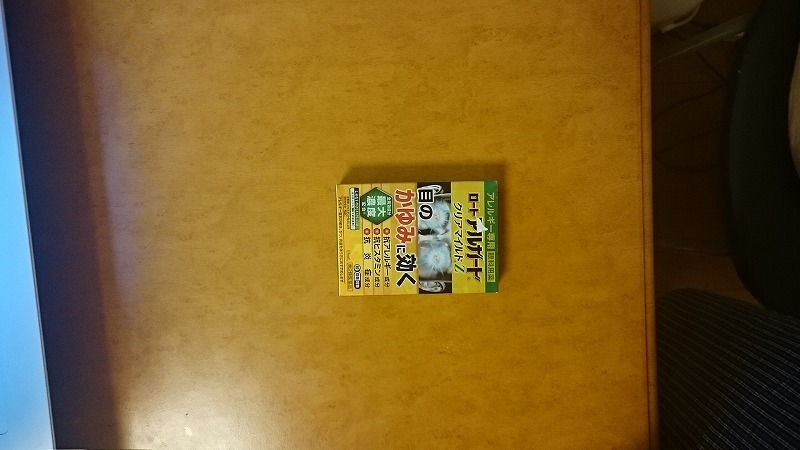C: (331, 175, 506, 302)
